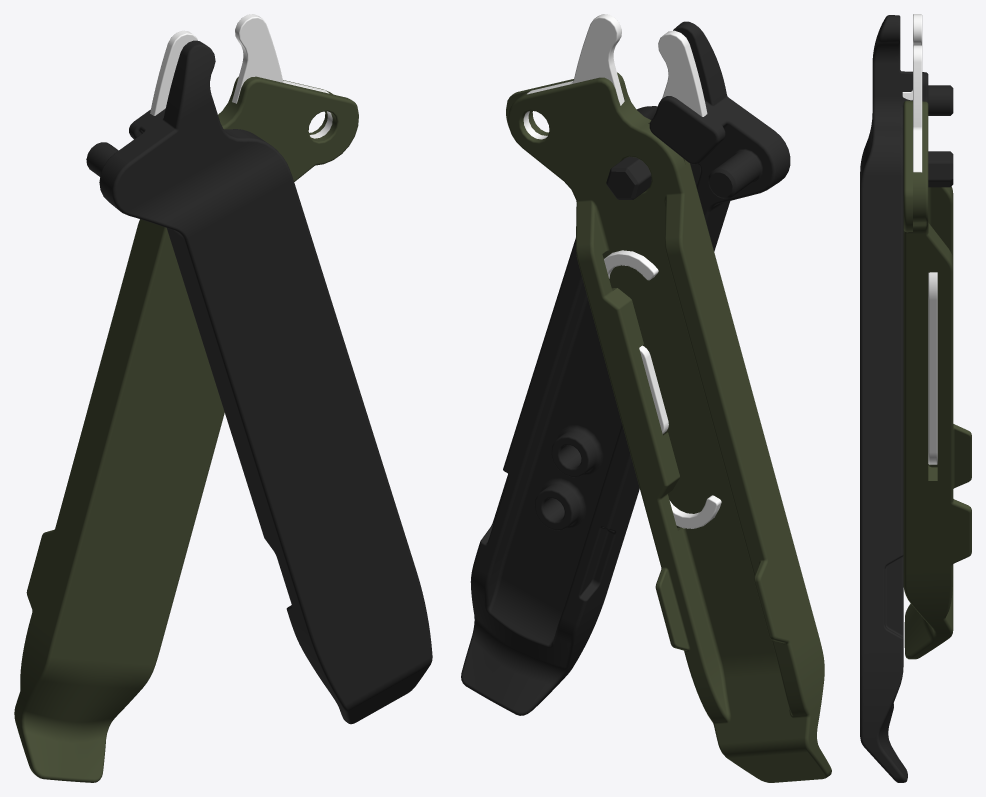
3 renders of one model, left to right at view 1: azimuth 30°, elevation 25°; view 2: azimuth 150°, elevation 25°; view 3: azimuth 270°, elevation 25°, orthographic. The views are drawn at different scales.
Parts seen in each view (by area): view 1: LEVER_RIGHT.001, LEVER_LEFT.001, IRON-LEFT.001, IRON-02.001; view 2: LEVER_LEFT.001, LEVER_RIGHT.001, IRON-LEFT.001, CHAIN_HOOK.001, IRON-02.001; view 3: LEVER_RIGHT.001, LEVER_LEFT.001, CHAIN_HOOK.001, IRON-LEFT.001, IRON-02.001.
Boxes of the visible parts, box(x1,y1,x2,y2) form: LEVER_RIGHT.001: box(86, 40, 432, 724); LEVER_LEFT.001: box(14, 76, 358, 782); IRON-LEFT.001: box(232, 14, 332, 138); IRON-02.001: box(150, 30, 197, 115); LEVER_LEFT.001: box(506, 72, 831, 782); LEVER_RIGHT.001: box(461, 21, 790, 715); IRON-LEFT.001: box(523, 14, 624, 139); CHAIN_HOOK.001: box(604, 250, 721, 528); IRON-02.001: box(658, 30, 707, 116); LEVER_RIGHT.001: box(860, 15, 953, 782); LEVER_LEFT.001: box(903, 100, 971, 659); CHAIN_HOOK.001: box(928, 272, 937, 464); IRON-LEFT.001: box(913, 45, 922, 172); IRON-02.001: box(902, 14, 922, 100).
Bounding box in the file's own units: 0.0659 × 0.1218 × 0.018.
